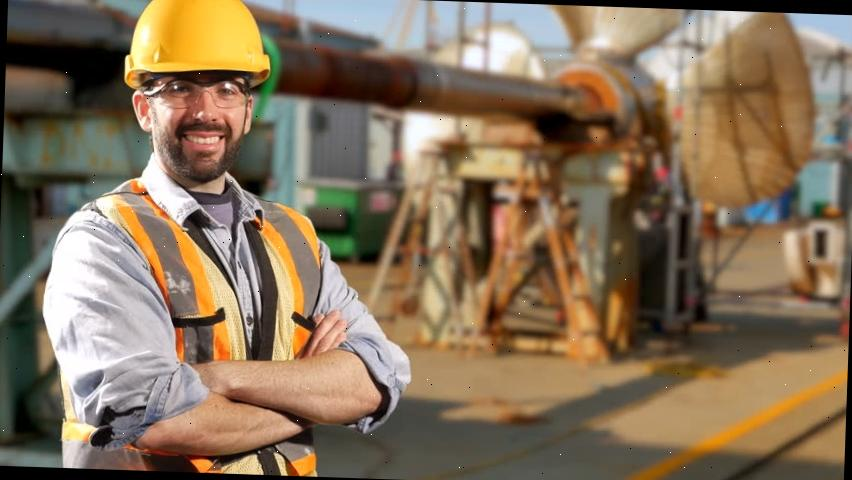helmet: (120, 0, 276, 91)
wear: (47, 189, 328, 476)
